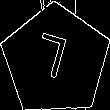L_S: (35, 32, 76, 88)
